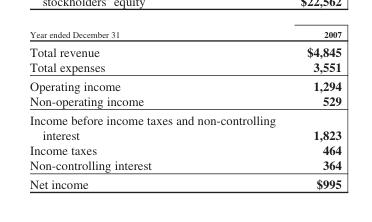table: (29, 28, 340, 191)
table column: (29, 28, 290, 191), (290, 28, 340, 191)
table row: (29, 110, 340, 142), (29, 92, 340, 110), (29, 41, 340, 58), (29, 58, 340, 75), (29, 75, 340, 92), (29, 157, 340, 174), (29, 174, 340, 191), (29, 142, 340, 157), (29, 28, 340, 41)
